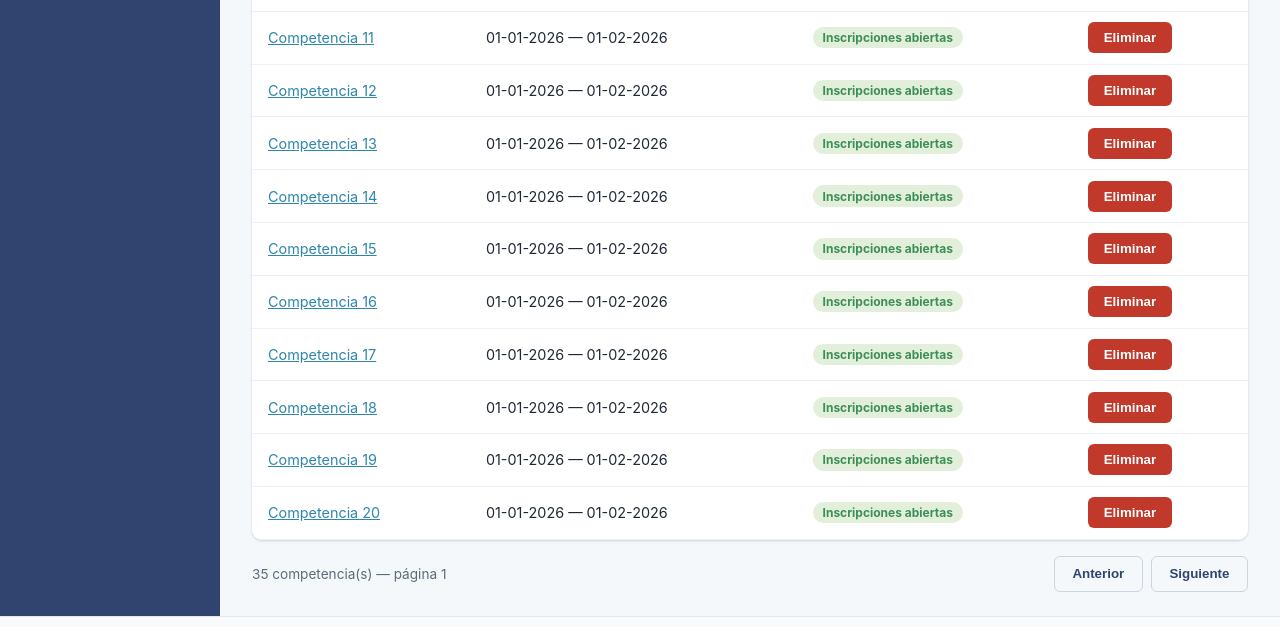
Test: CompetitionsListPage: paginación real › al CAMBIAR EL FILTRO vuelve a la página 1
(page scrolled)
Click the button "Siguiente": (1199, 574) 1151,556 -> 1248,592
(page scrolled)
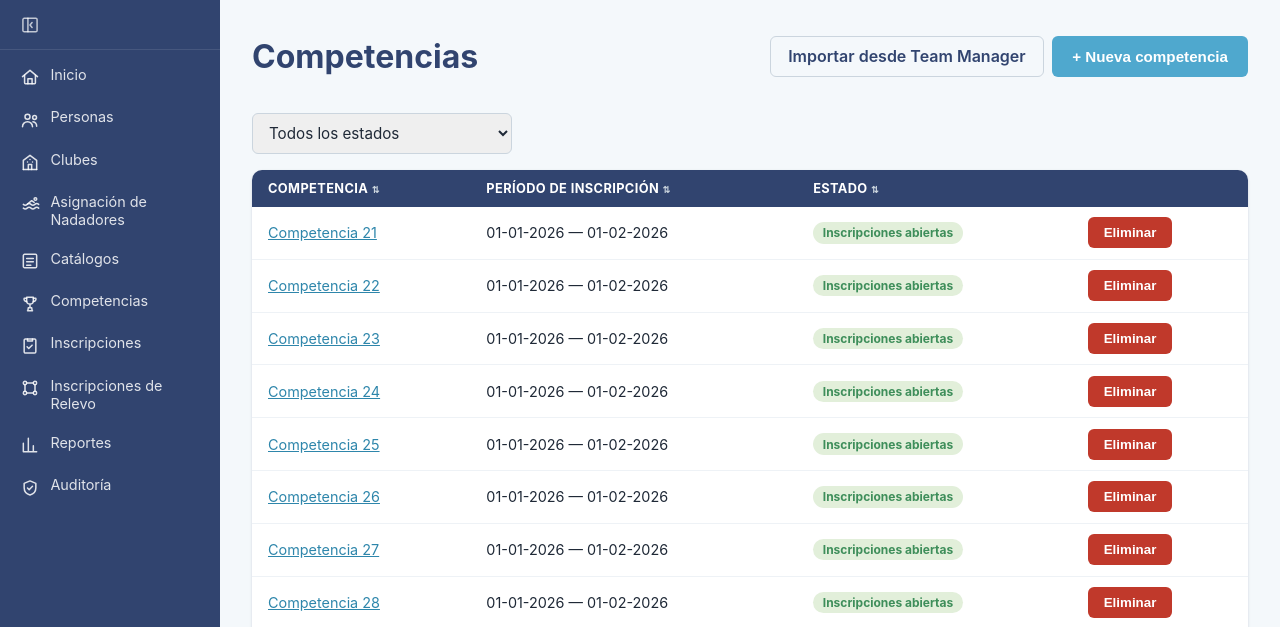
Expected: the link "Competencia 21" is shown, 268,224 -> 377,241
Select "Inscripciones cerradas" in the dropdown: (382, 133) 252,113 -> 512,154
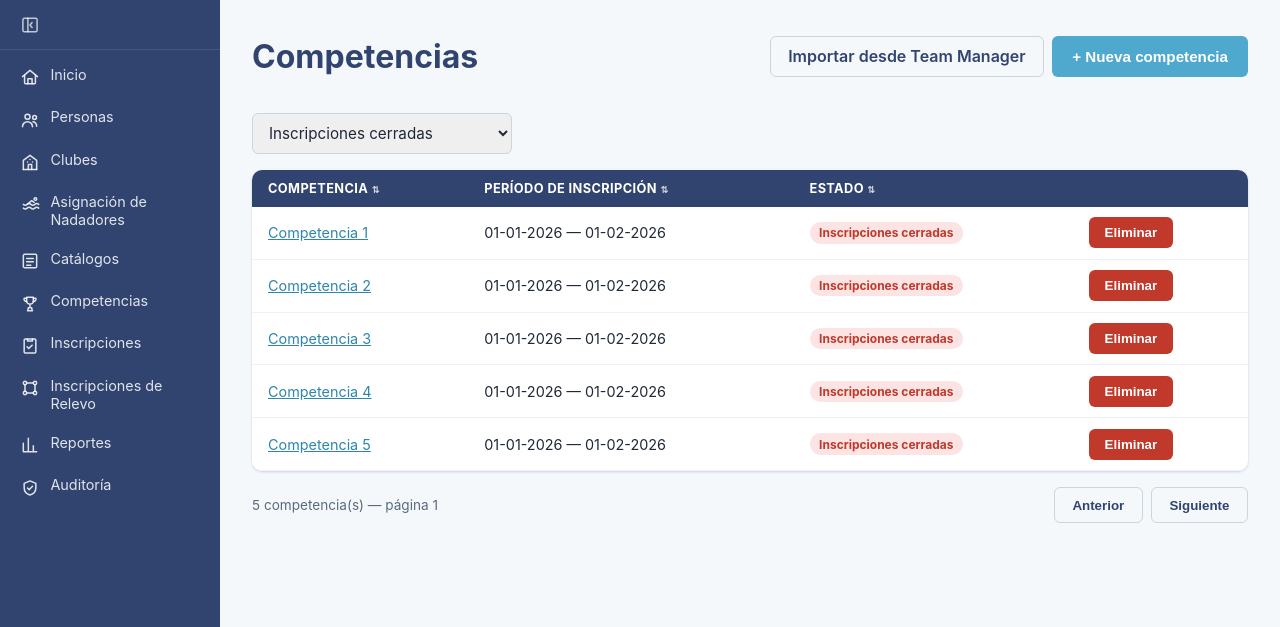
Expected: the text "5 competencia(s) — página 1" is shown, 252,497 -> 438,513
Expected: the link "Competencia 1" is shown, 268,224 -> 368,241
